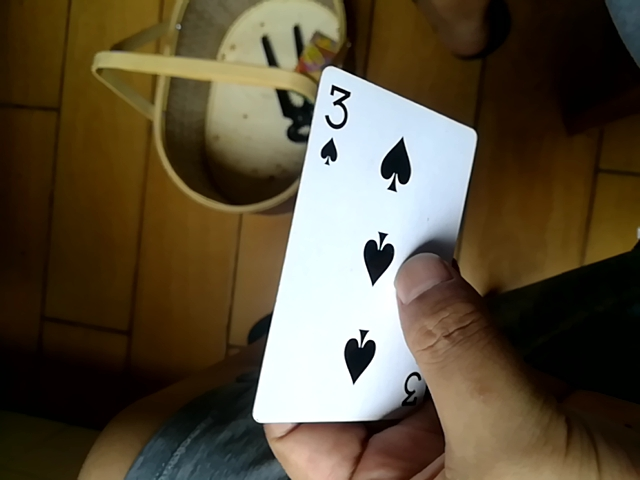ht 3: (252, 61, 471, 432)
